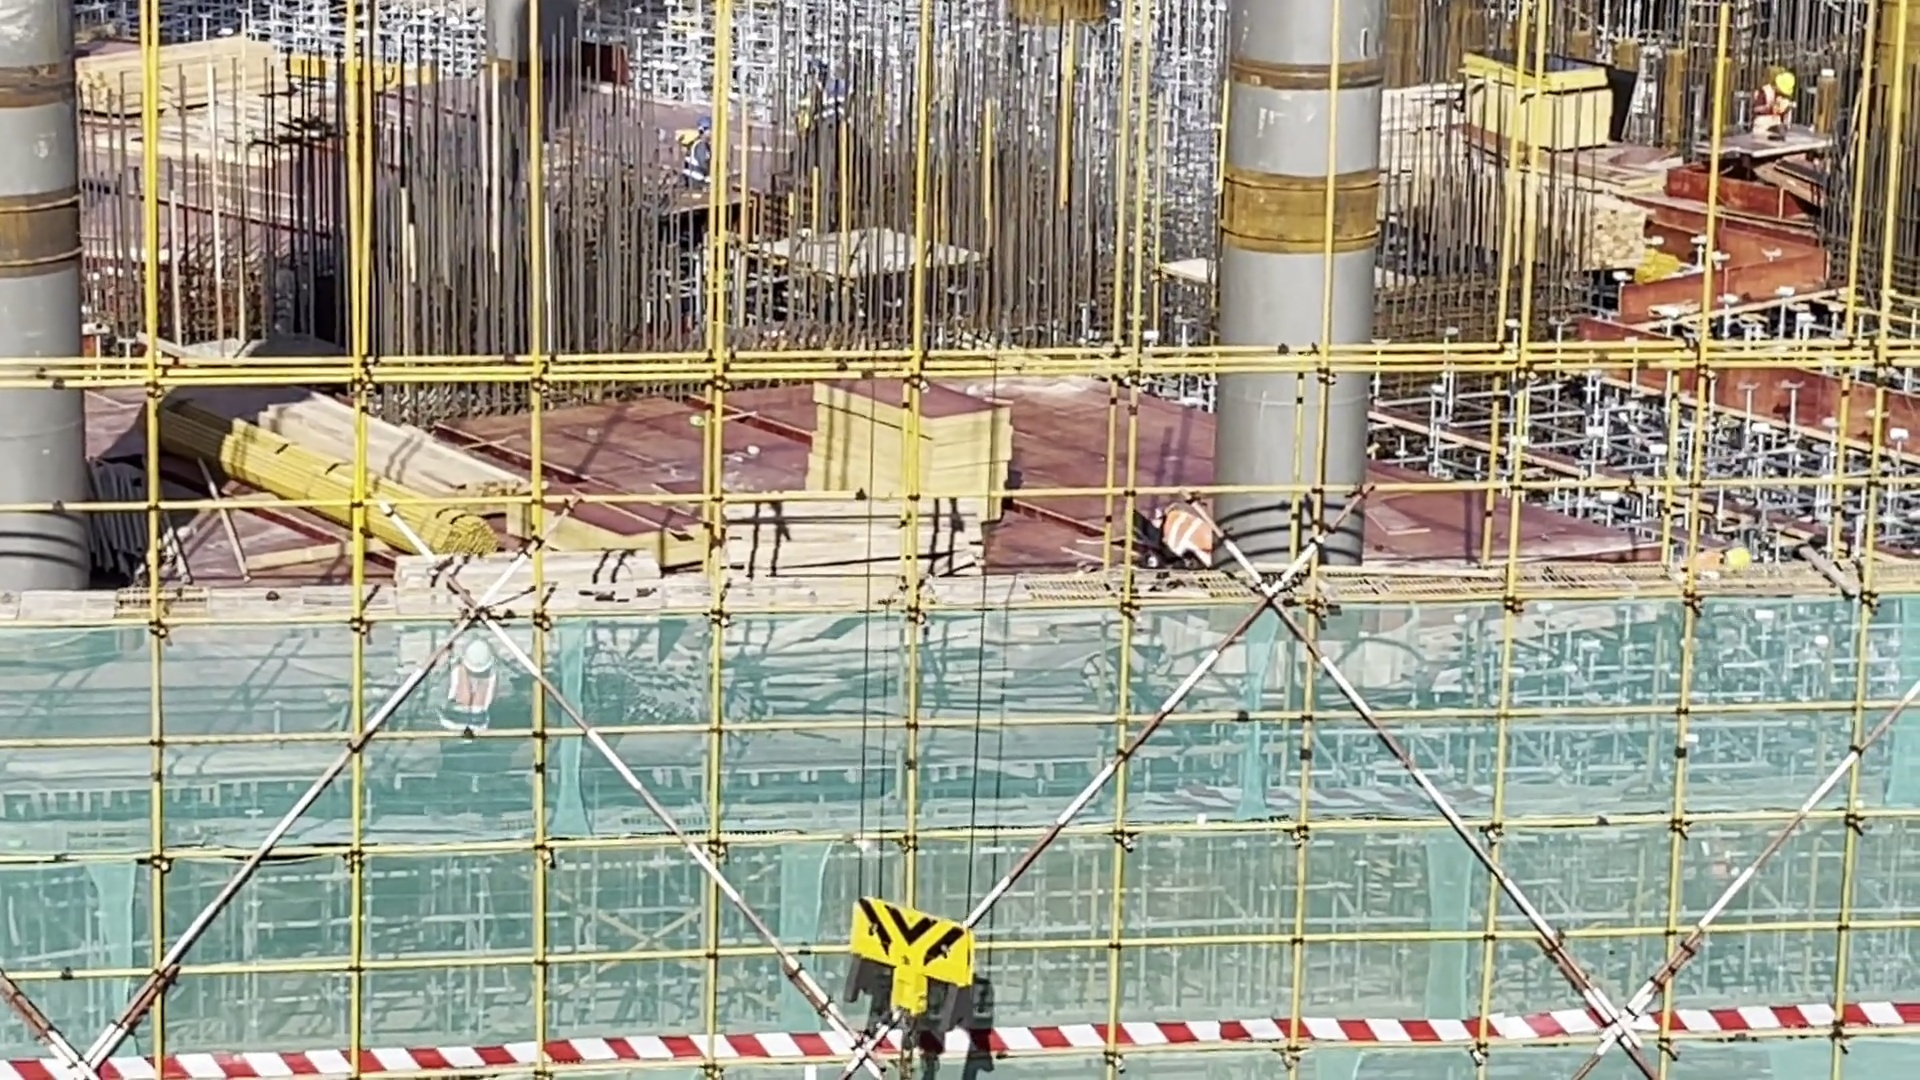board: (811, 383, 1006, 493), (1469, 43, 1615, 150)
hook: (848, 897, 974, 1018)
person: (1140, 500, 1213, 561), (1754, 62, 1796, 139)
vest: (1166, 510, 1212, 557)
wood: (231, 404, 533, 546), (708, 491, 993, 569), (78, 33, 302, 114), (1592, 206, 1652, 261)
